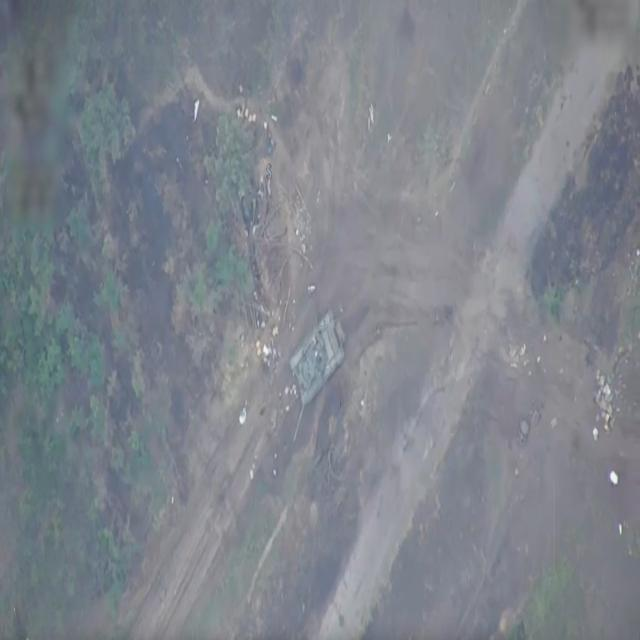MBT: (288, 307, 347, 445)
